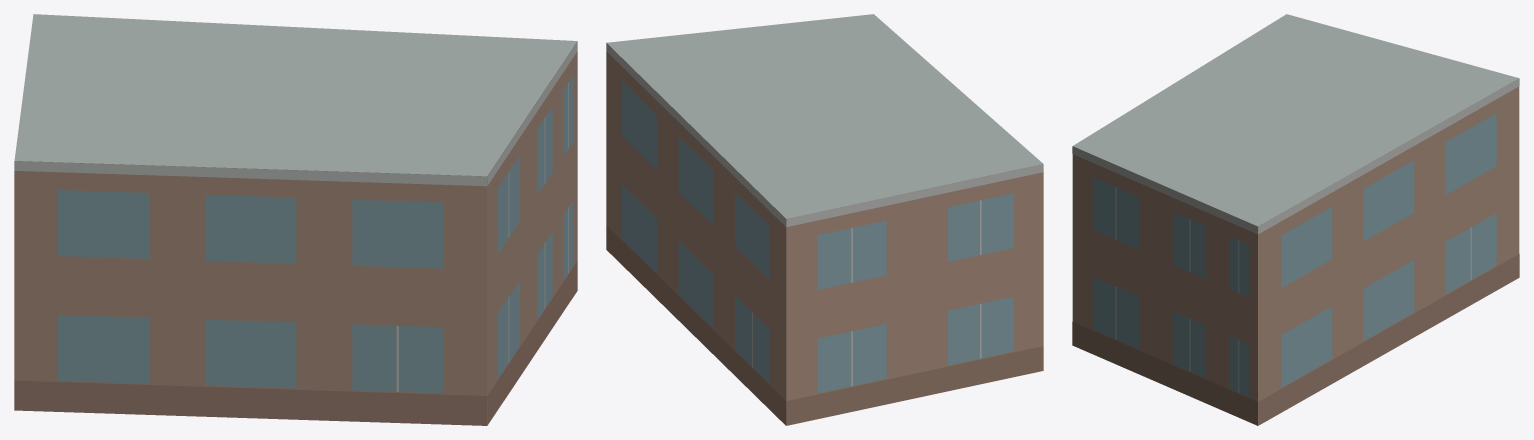
Rendered from survey-upis-32813077.glb.
The picture shows the model from 3 angles, left to right: view 1: azimuth 30°, elevation 25°; view 2: azimuth 150°, elevation 25°; view 3: azimuth 270°, elevation 25°; orthographic projection. The views are drawn at different scales.
Parts seen in each view (by area): view 1: survey-upis-32813077.tmp; view 2: survey-upis-32813077.tmp; view 3: survey-upis-32813077.tmp.
Part boxes in pixels (x1,y1,x2,y2): survey-upis-32813077.tmp: [14, 14, 577, 425]; survey-upis-32813077.tmp: [606, 14, 1043, 425]; survey-upis-32813077.tmp: [1072, 14, 1519, 425].
Size of the model in its own units: 13.95 by 6.1 by 12.4.
